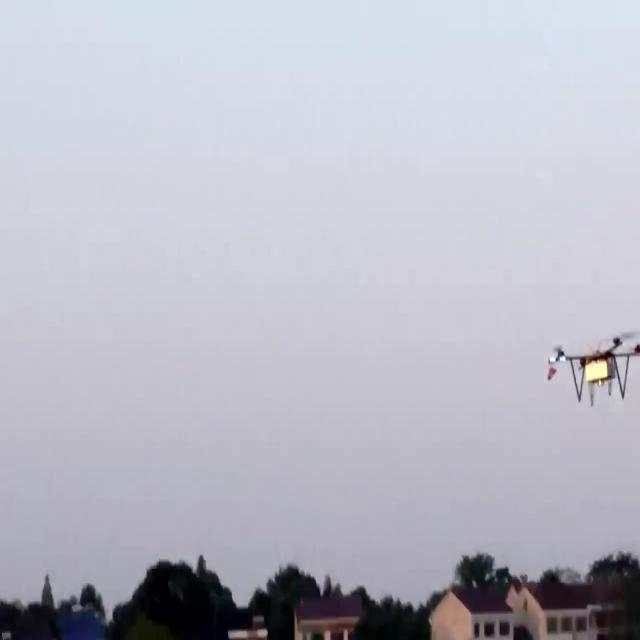drone: (546, 325, 640, 409)
